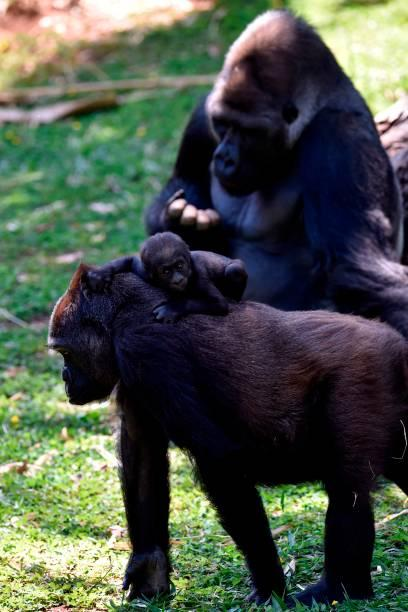gorille_Autres: (2, 260, 408, 612), (123, 0, 404, 273)
